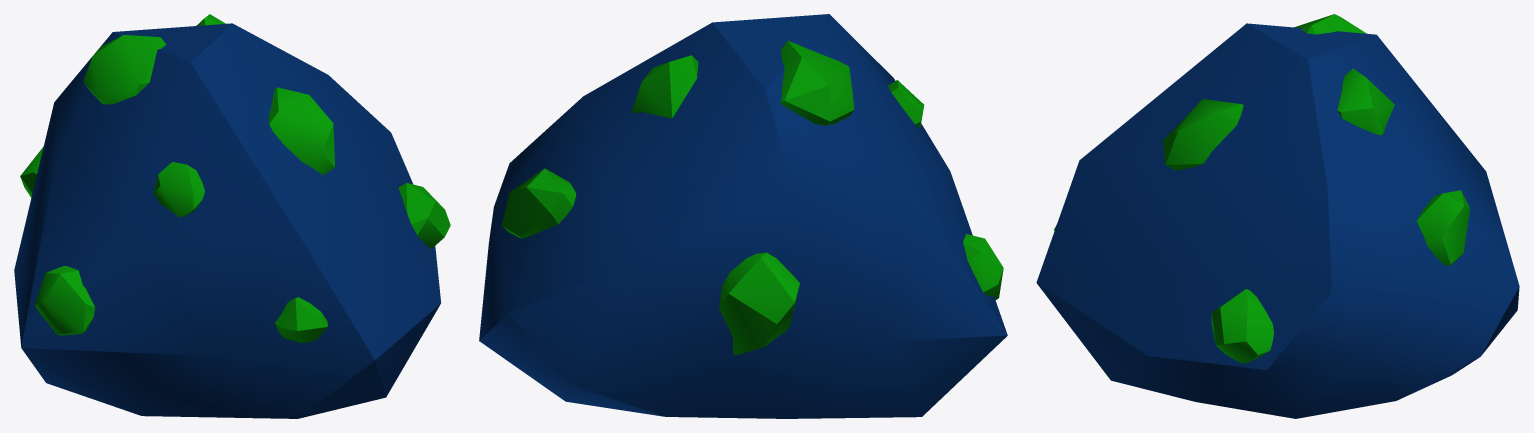
Rendered from Metal.fbx.
3 renders of one model, left to right at view 1: azimuth 30°, elevation 25°; view 2: azimuth 150°, elevation 25°; view 3: azimuth 270°, elevation 25°, orthographic. The views are drawn at different scales.
Visible parts, largest first — view 1: Metal; view 2: Metal; view 3: Metal.
Boxes of the visible parts, <box> form: Metal: <box>14,14,450,418</box>; Metal: <box>479,14,1007,418</box>; Metal: <box>1036,14,1519,418</box>.
Bounding box in the file's own units: 101 × 74.76 × 106.
